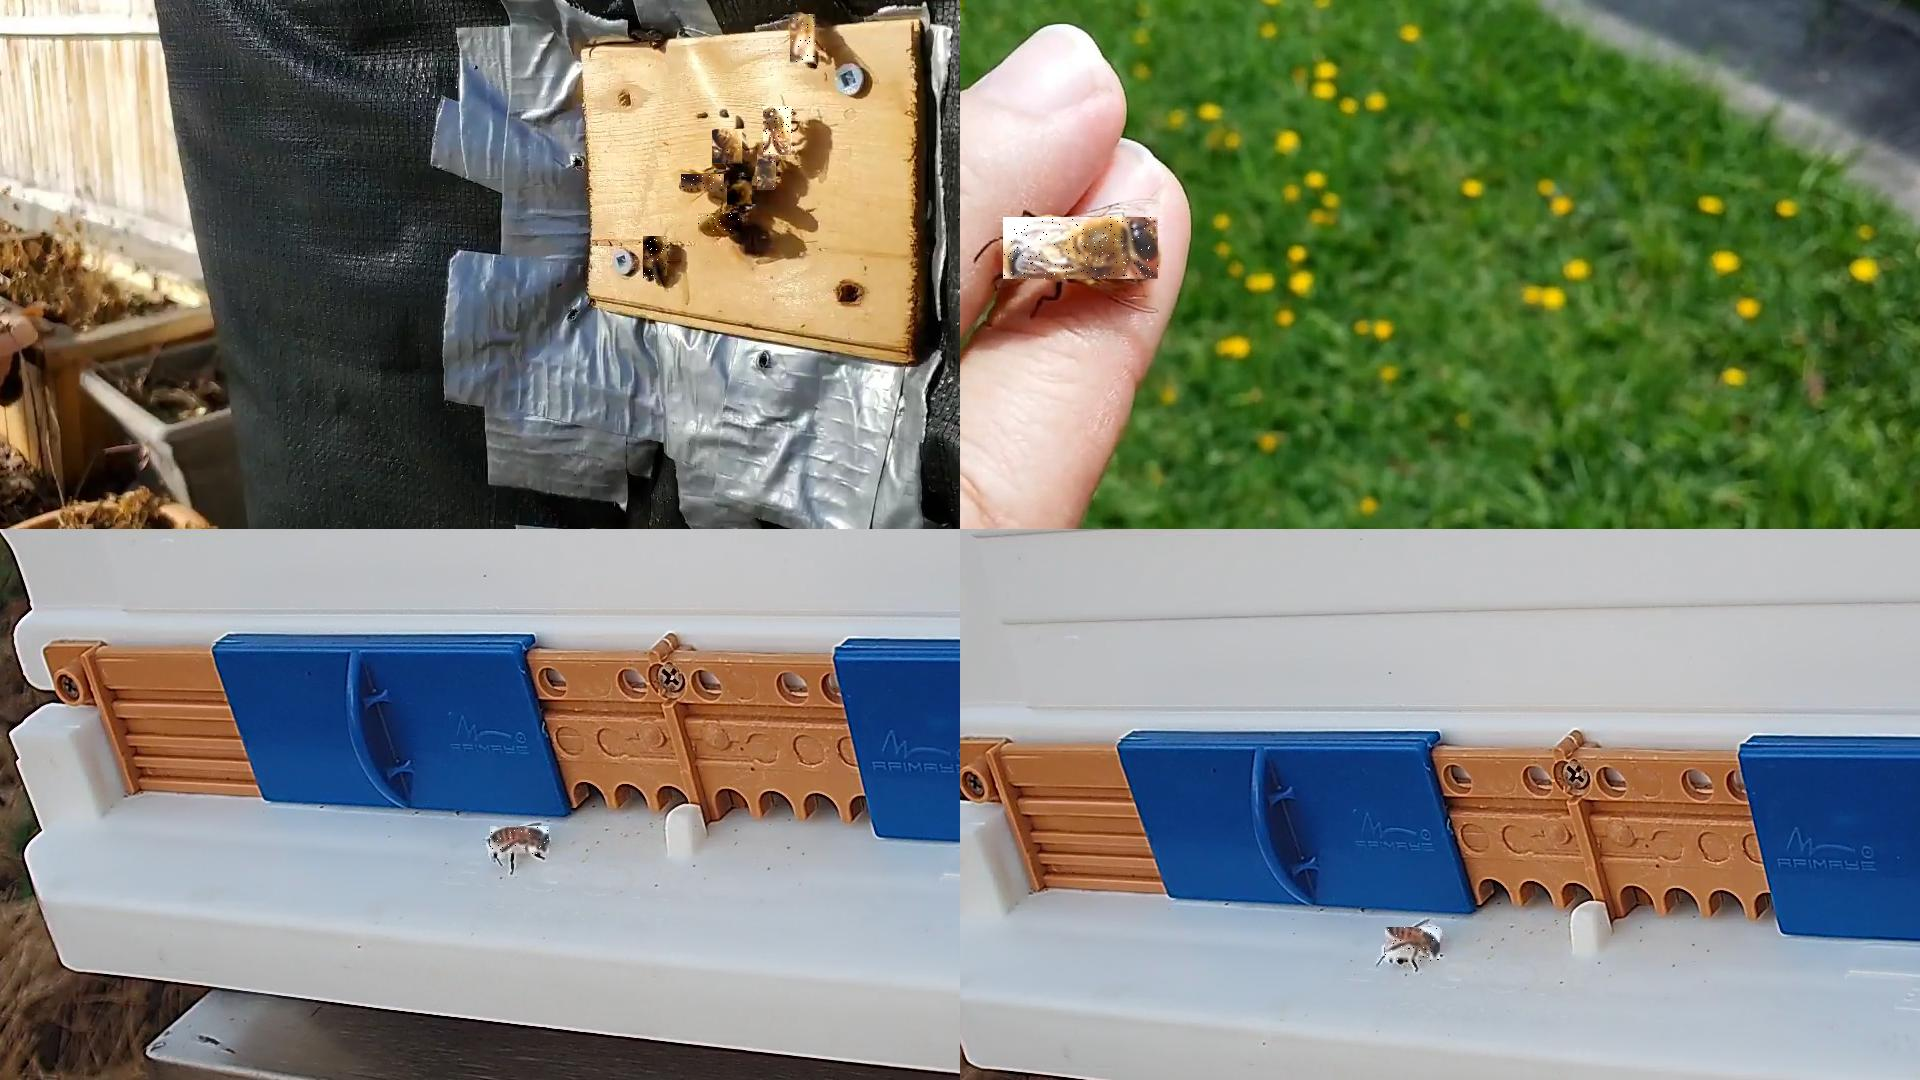bee: (1385, 928, 1441, 963), (490, 827, 550, 857), (764, 106, 796, 156), (791, 15, 819, 67), (713, 130, 747, 168), (643, 237, 668, 281), (699, 214, 745, 235), (727, 177, 753, 206), (681, 175, 725, 192), (757, 154, 777, 191)
drone: (1003, 217, 1159, 280)
